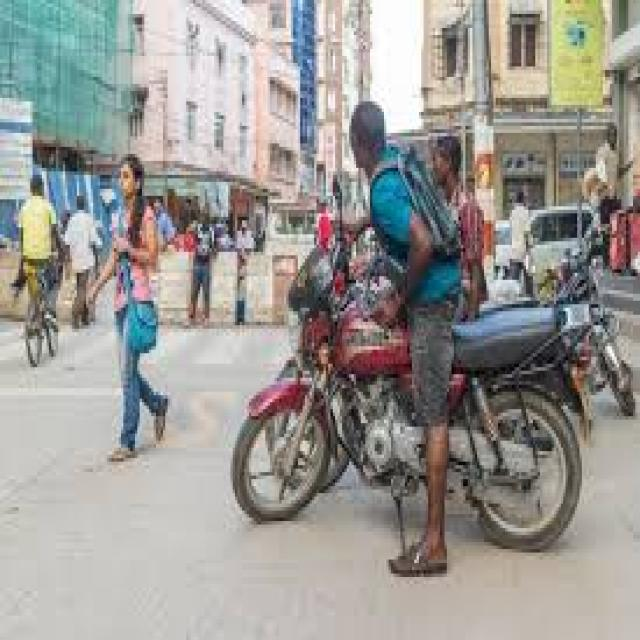bodaboda: (186, 140, 640, 614)
